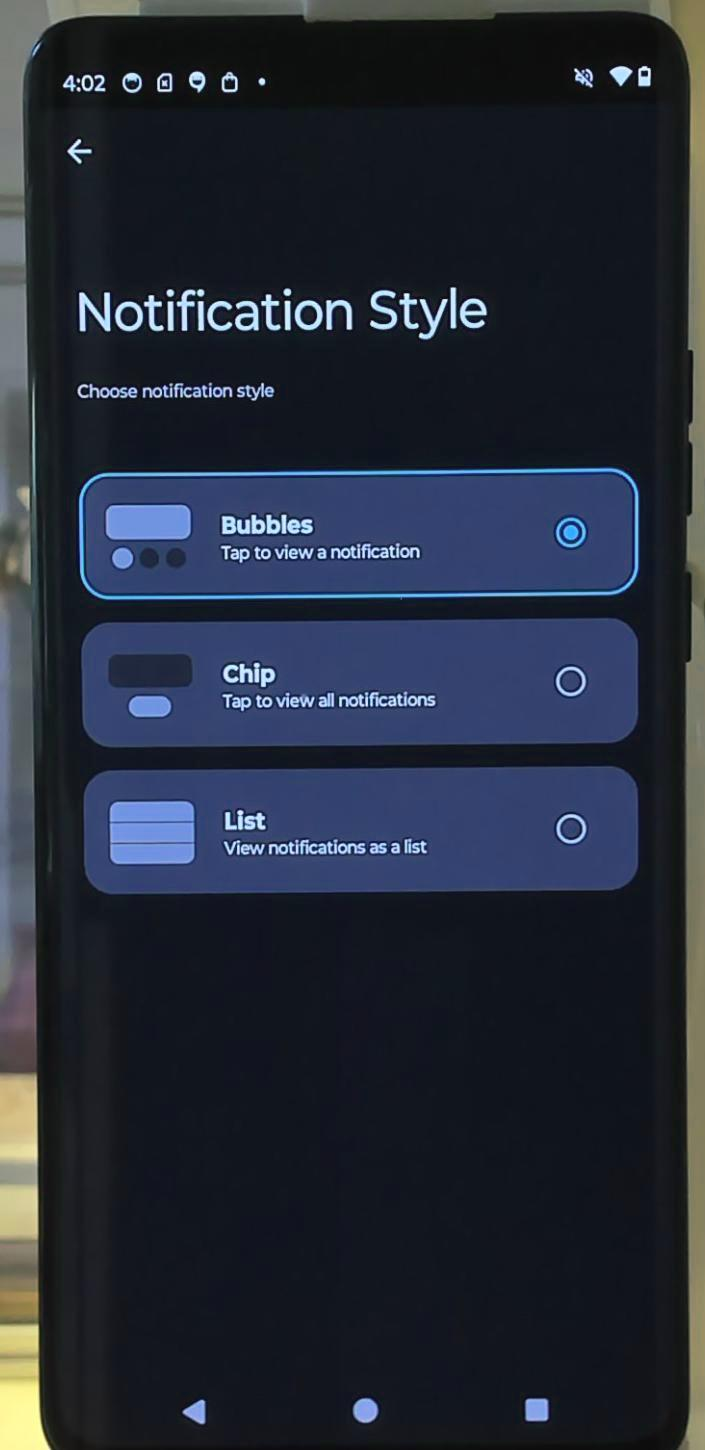RadioButton: (95, 628, 590, 732), (98, 768, 588, 866), (98, 490, 606, 574)
